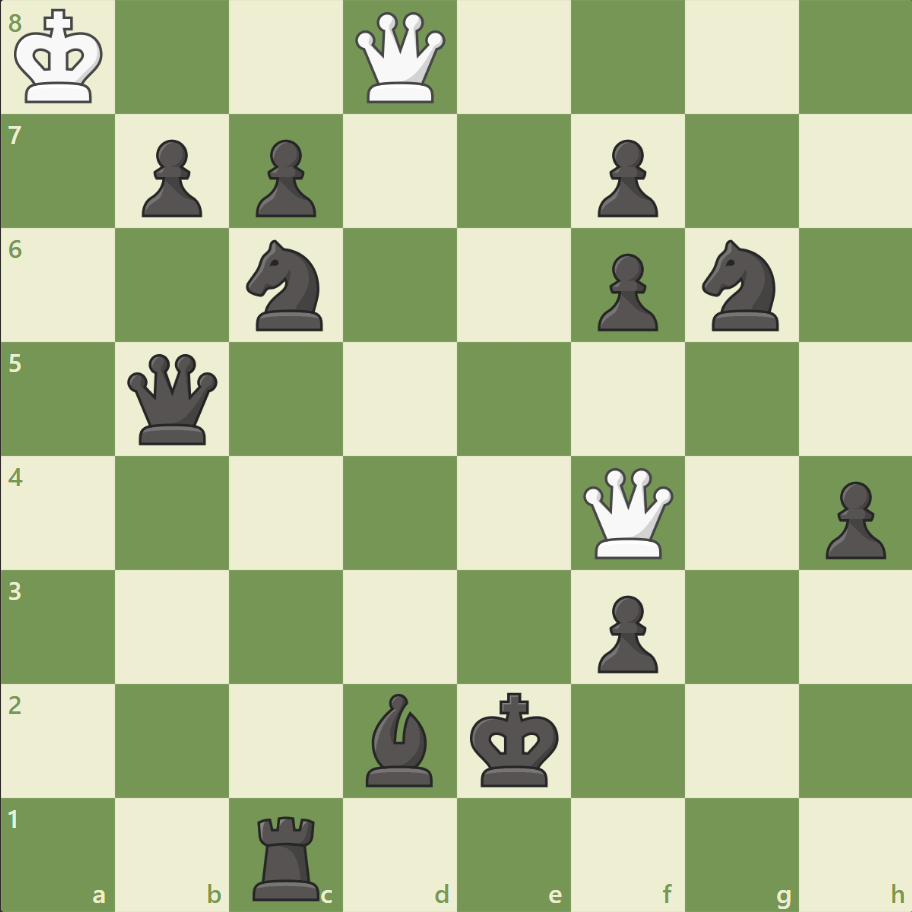K: (11, 4, 111, 112)
Q: (351, 9, 450, 108), (578, 463, 677, 562)
b: (358, 687, 442, 790)
k: (465, 685, 565, 793)
n: (238, 234, 335, 337), (692, 234, 789, 337)
p: (133, 132, 208, 223), (247, 132, 322, 223), (588, 132, 662, 223), (588, 246, 662, 337), (815, 473, 889, 564), (588, 586, 662, 677)
q: (124, 349, 223, 449)
r: (246, 806, 329, 904)
